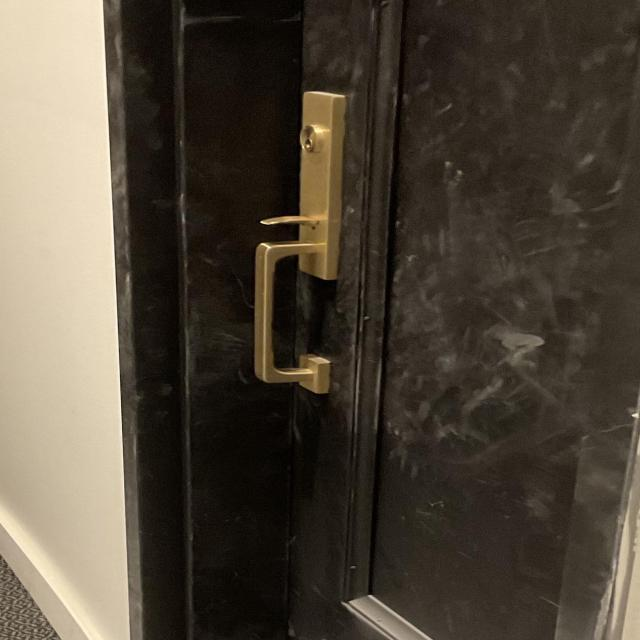door_handle: (229, 234, 369, 399)
